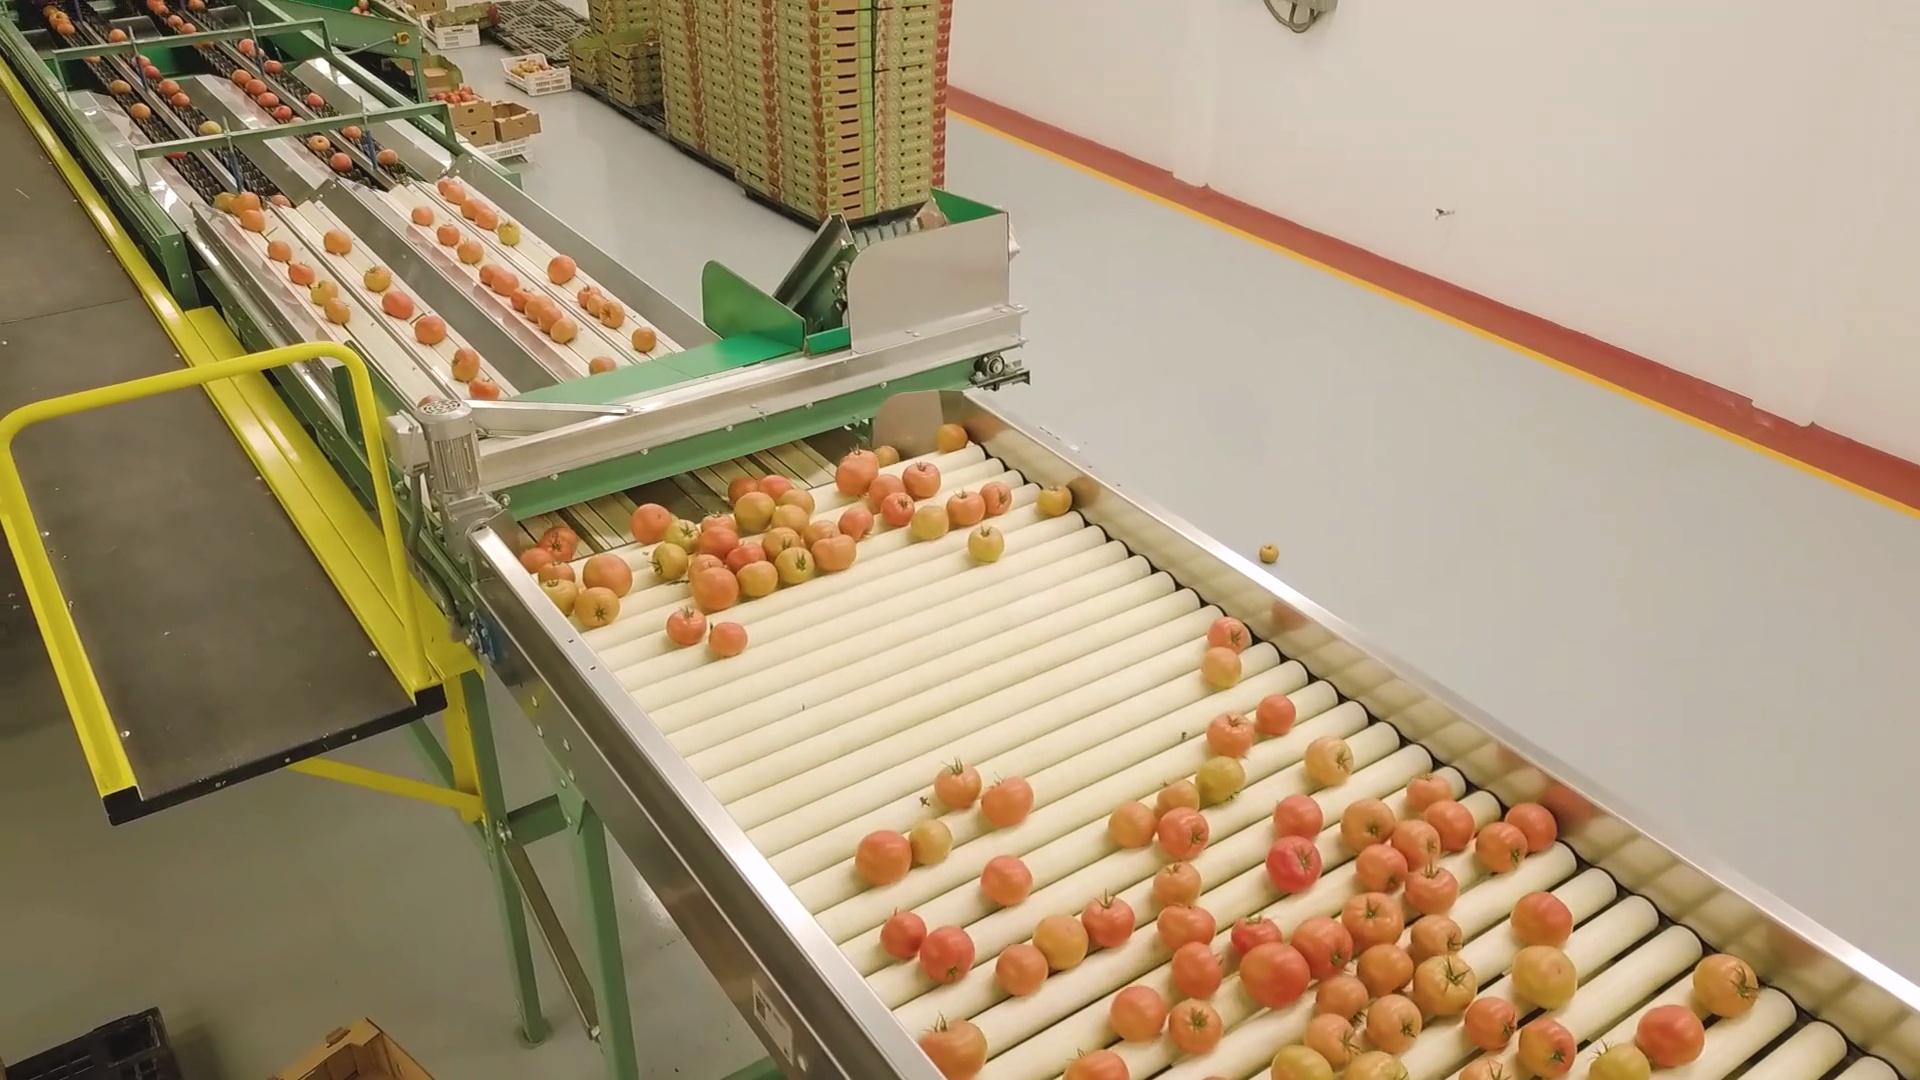Fruit: (1696, 949, 1772, 1021), (1511, 944, 1582, 1014), (914, 1021, 989, 1080), (1633, 1006, 1710, 1063), (1083, 885, 1143, 948), (1245, 948, 1308, 1007), (920, 931, 980, 988), (1524, 1018, 1581, 1077), (1269, 836, 1332, 887), (1174, 1000, 1230, 1056), (988, 856, 1046, 911), (1374, 1001, 1437, 1051), (1294, 916, 1349, 972), (1114, 986, 1168, 1043), (1305, 1014, 1367, 1063), (1480, 816, 1528, 877), (994, 943, 1044, 1001), (1341, 794, 1394, 845), (1056, 1047, 1135, 1080), (1158, 907, 1221, 948), (1431, 796, 1482, 847), (1466, 1000, 1516, 1051), (570, 579, 624, 626), (1419, 959, 1474, 1005), (913, 815, 957, 872), (1160, 812, 1217, 857), (1592, 1035, 1648, 1080), (857, 832, 909, 881), (1175, 943, 1221, 996), (1191, 761, 1254, 799), (1520, 898, 1577, 940), (1035, 920, 1088, 965), (1274, 794, 1329, 836), (1514, 799, 1561, 848), (1208, 711, 1258, 756), (1367, 944, 1412, 994), (1391, 816, 1441, 861), (1274, 1040, 1331, 1080), (1348, 895, 1402, 936), (985, 782, 1031, 828), (1308, 737, 1356, 782), (1320, 969, 1365, 1015), (1350, 848, 1400, 889), (1403, 874, 1462, 909), (1420, 916, 1474, 953), (1159, 864, 1207, 903), (585, 555, 642, 588), (1113, 802, 1158, 843), (885, 913, 924, 959), (694, 571, 742, 607), (832, 447, 873, 489), (916, 501, 955, 546), (1354, 1050, 1410, 1080), (1205, 644, 1244, 687), (939, 766, 980, 806), (1155, 778, 1205, 810), (649, 541, 686, 583), (1035, 480, 1077, 516), (1259, 696, 1298, 735), (735, 491, 774, 527), (816, 538, 862, 570), (1236, 910, 1278, 944), (971, 526, 1010, 562), (839, 505, 880, 539), (942, 422, 980, 458), (630, 508, 673, 539), (1215, 616, 1253, 650), (666, 609, 703, 642), (539, 530, 578, 562), (712, 625, 752, 655), (779, 550, 816, 582), (702, 530, 748, 554), (745, 567, 781, 597), (1412, 774, 1449, 803), (1457, 1063, 1519, 1080), (906, 463, 939, 495), (868, 475, 910, 498), (978, 484, 1013, 512), (381, 291, 415, 319), (775, 504, 811, 530), (541, 258, 580, 282), (448, 348, 476, 381), (876, 446, 911, 471), (414, 322, 450, 347), (731, 542, 767, 566), (955, 498, 992, 521), (885, 496, 915, 522), (360, 266, 397, 287), (324, 299, 353, 326), (542, 580, 572, 605), (607, 302, 629, 335), (691, 553, 725, 574), (324, 229, 352, 255), (765, 529, 799, 549), (553, 320, 580, 344), (524, 551, 556, 571), (459, 241, 487, 264), (542, 566, 584, 580), (524, 295, 550, 318), (678, 520, 699, 547), (702, 516, 738, 531), (287, 262, 315, 284), (808, 520, 839, 538), (493, 272, 520, 293), (787, 489, 819, 506), (500, 224, 524, 247), (475, 376, 496, 401), (410, 206, 435, 227), (266, 240, 293, 260), (438, 224, 460, 247), (731, 475, 754, 496), (310, 284, 339, 301), (231, 194, 260, 211), (243, 210, 265, 231), (576, 281, 596, 305), (475, 207, 497, 227), (764, 479, 791, 495), (442, 183, 464, 202), (539, 307, 559, 327), (272, 193, 293, 211), (633, 330, 650, 352), (589, 357, 617, 371), (462, 195, 479, 216), (215, 194, 235, 211), (516, 287, 530, 310), (376, 152, 398, 166), (480, 264, 498, 281), (332, 154, 352, 170), (231, 70, 252, 84), (160, 80, 181, 95), (132, 104, 152, 119), (173, 94, 191, 108), (310, 136, 328, 150), (59, 22, 78, 37), (144, 63, 162, 78), (260, 94, 280, 105), (111, 80, 131, 92), (108, 29, 128, 41), (276, 105, 293, 119), (265, 61, 284, 73), (589, 301, 603, 316), (309, 94, 324, 107), (239, 38, 255, 51), (49, 13, 69, 24), (199, 123, 220, 132), (249, 80, 264, 92), (190, 3, 204, 12), (181, 22, 195, 32), (169, 15, 181, 25), (156, 5, 170, 13), (45, 8, 61, 15)
